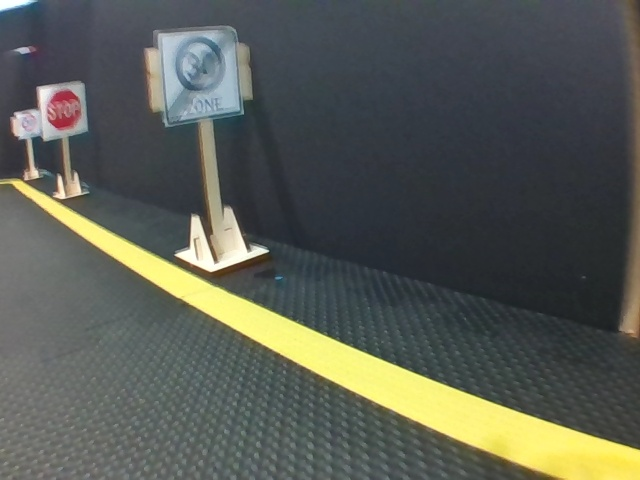30: (12, 112, 39, 139)
no30: (158, 32, 243, 115)
stop: (39, 86, 88, 135)
